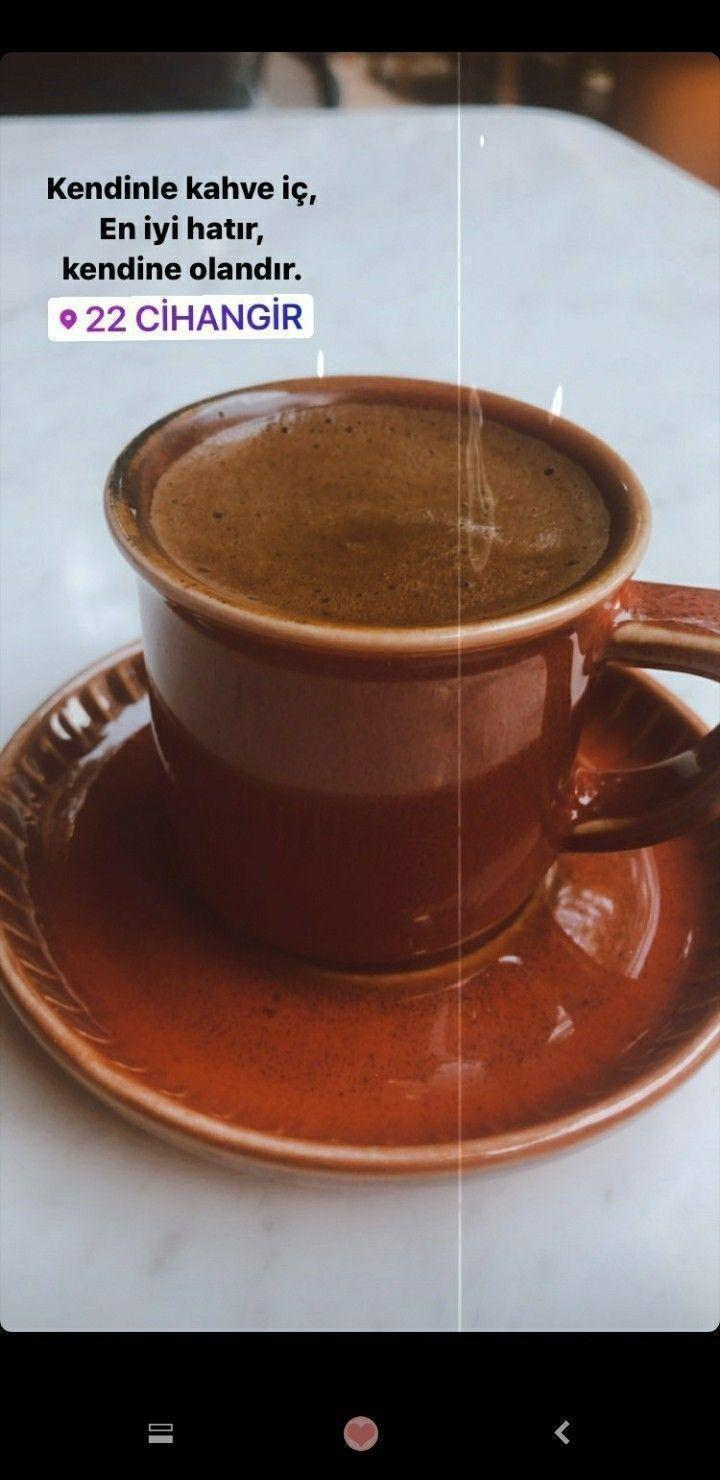cup-handle: (99, 370, 719, 986)
